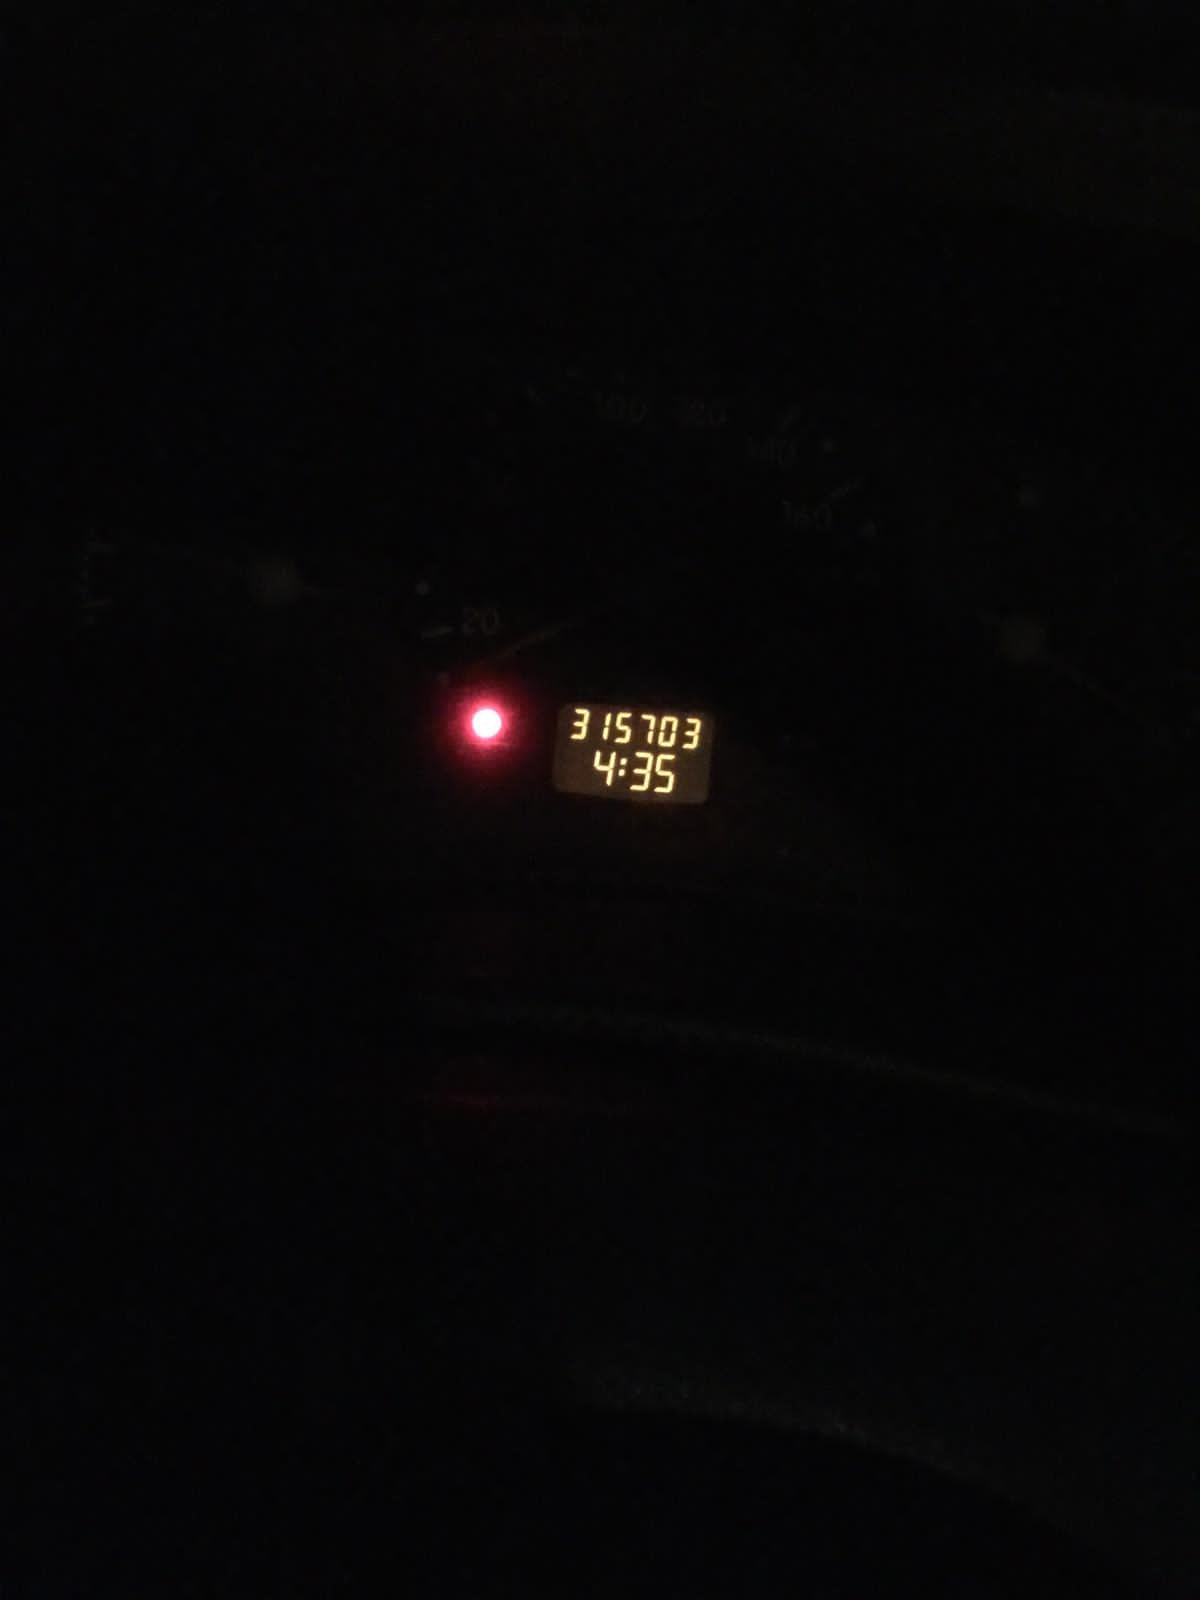0: (657, 714, 679, 748)
1: (600, 711, 613, 741)
3: (629, 750, 654, 791), (568, 707, 591, 741), (681, 717, 702, 750)
4: (592, 750, 616, 787)
5: (654, 753, 677, 792), (613, 711, 633, 743)
7: (639, 713, 655, 745)
X: (616, 757, 626, 777)
odometer: (547, 698, 717, 809)
